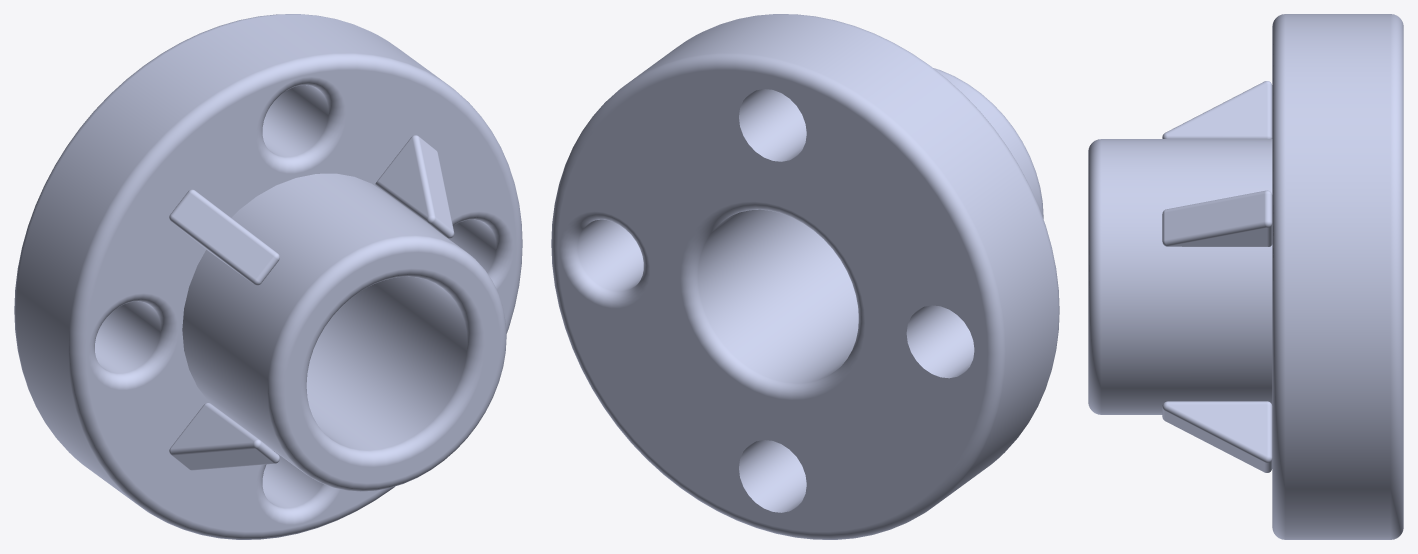
Rendered from Practice4_1.glb.
The picture shows the model from 3 angles, left to right: view 1: azimuth 30°, elevation 25°; view 2: azimuth 150°, elevation 25°; view 3: azimuth 270°, elevation 25°; orthographic projection.
Parts seen in each view (by area): view 1: Practice4; view 2: Practice4; view 3: Practice4.
Boxes of the visible parts, box(x1,y1,x2,y2) form: Practice4: box(14, 14, 522, 539); Practice4: box(551, 14, 1059, 539); Practice4: box(1088, 14, 1403, 539).
Size of the model in its own units: 0.2 by 0.2 by 0.12.
